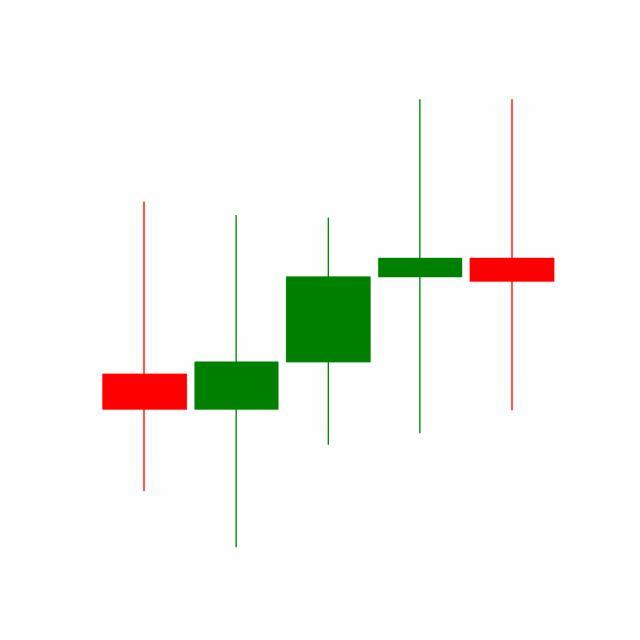Spinning Top: (374, 96, 468, 438)
